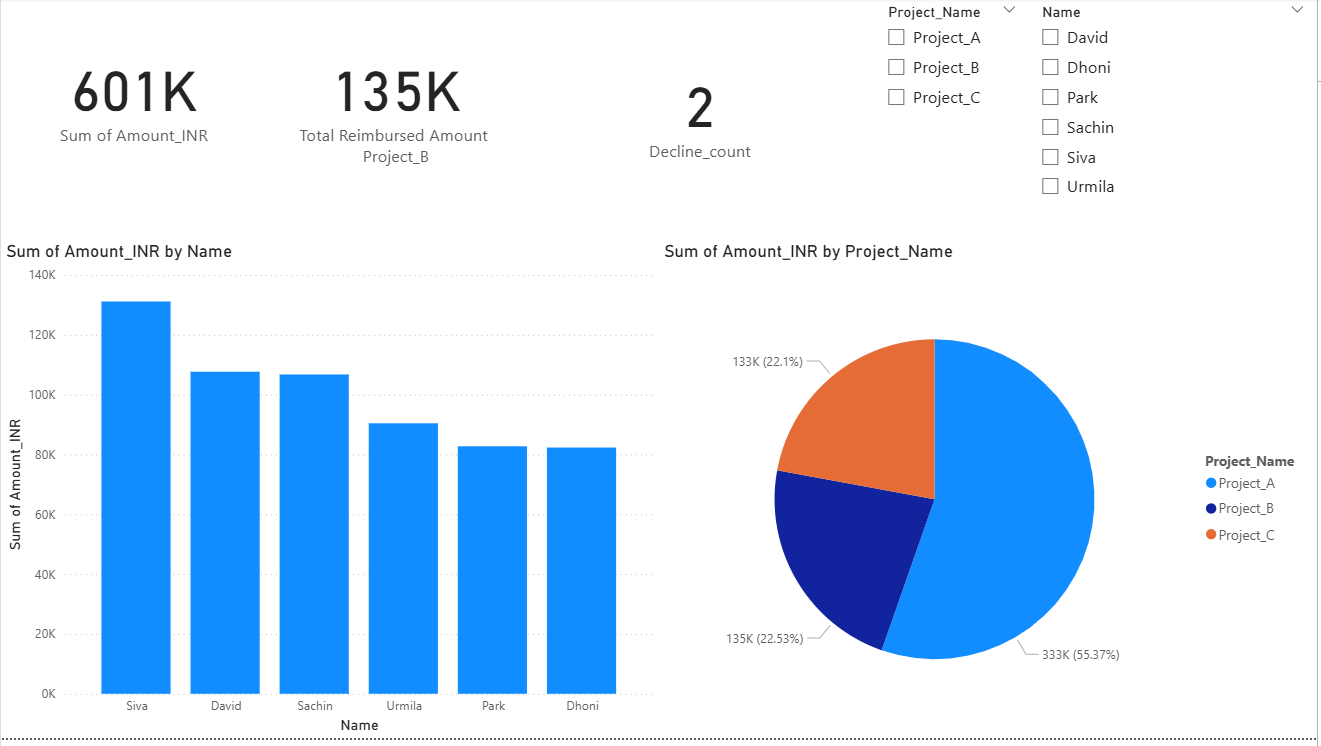

Layout of this report page (visuals, bound fields, positions):
{"tool":"powerbi","page":{"name":"DashBoard","canvas":[1280,720],"ordinal":0},"visuals":[{"type":"card","fields":{"Values":["fact_reimbursement.Amount_INR"]},"box":[0,0,258.7,188.7],"z":0},{"type":"card","fields":{"Values":["fact_reimbursement.Total Reimbursed Amount Project_B"]},"box":[258.7,0,250.9,188.7],"z":1000},{"type":"card","fields":{"Values":["fact_reimbursement.Decline_count"]},"box":[509.7,0,340.4,219.8],"z":2000},{"type":"textbox","box":[386.1,255.8,280.1,221.8],"z":3000},{"type":"textbox","box":[10,498,280,222],"z":4000},{"type":"slicer","fields":{"Values":["fact_reimbursement.Project_Name"]},"box":[850.1,0,149.8,181.9],"z":5000},{"type":"slicer","fields":{"Values":["Dim_employee.Name"]},"box":[999.9,0,280.1,211.1],"z":6000},{"type":"clusteredColumnChart","fields":{"Y":["fact_reimbursement.Amount_INR"],"Category":["Dim_employee.Name"]},"box":[0,236.4,640,483.4],"z":6001},{"type":"pieChart","fields":{"Category":["fact_reimbursement.Project_Name"],"Y":["fact_reimbursement.Amount_INR"]},"box":[640,236.4,640,483.4],"z":6002}]}

Visuals, with their boxes in screenshot pixels (x1, y1, x2, y2), scaled from the page's 1280x720 canvas onto the 1321x746 screenshot:
card - fact_reimbursement.Amount_INR: box(0, 0, 267, 196)
card - fact_reimbursement.Total Reimbursed Amount Project_B: box(267, 0, 526, 196)
card - fact_reimbursement.Decline_count: box(526, 0, 877, 228)
textbox: box(398, 265, 688, 495)
textbox: box(10, 516, 299, 745)
slicer - fact_reimbursement.Project_Name: box(877, 0, 1032, 188)
slicer - Dim_employee.Name: box(1032, 0, 1320, 219)
clusteredColumnChart - fact_reimbursement.Amount_INR x Dim_employee.Name: box(0, 245, 660, 745)
pieChart - fact_reimbursement.Project_Name x fact_reimbursement.Amount_INR: box(660, 245, 1320, 745)
